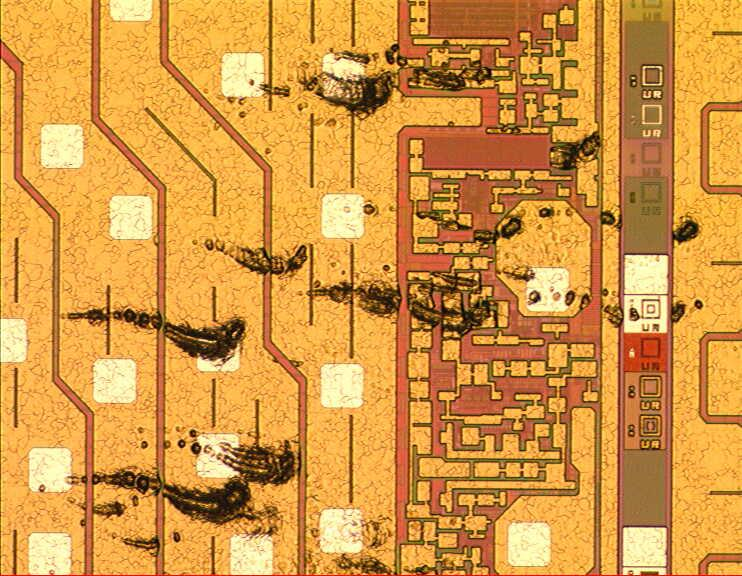SCRATCH: (36, 38, 708, 576)
